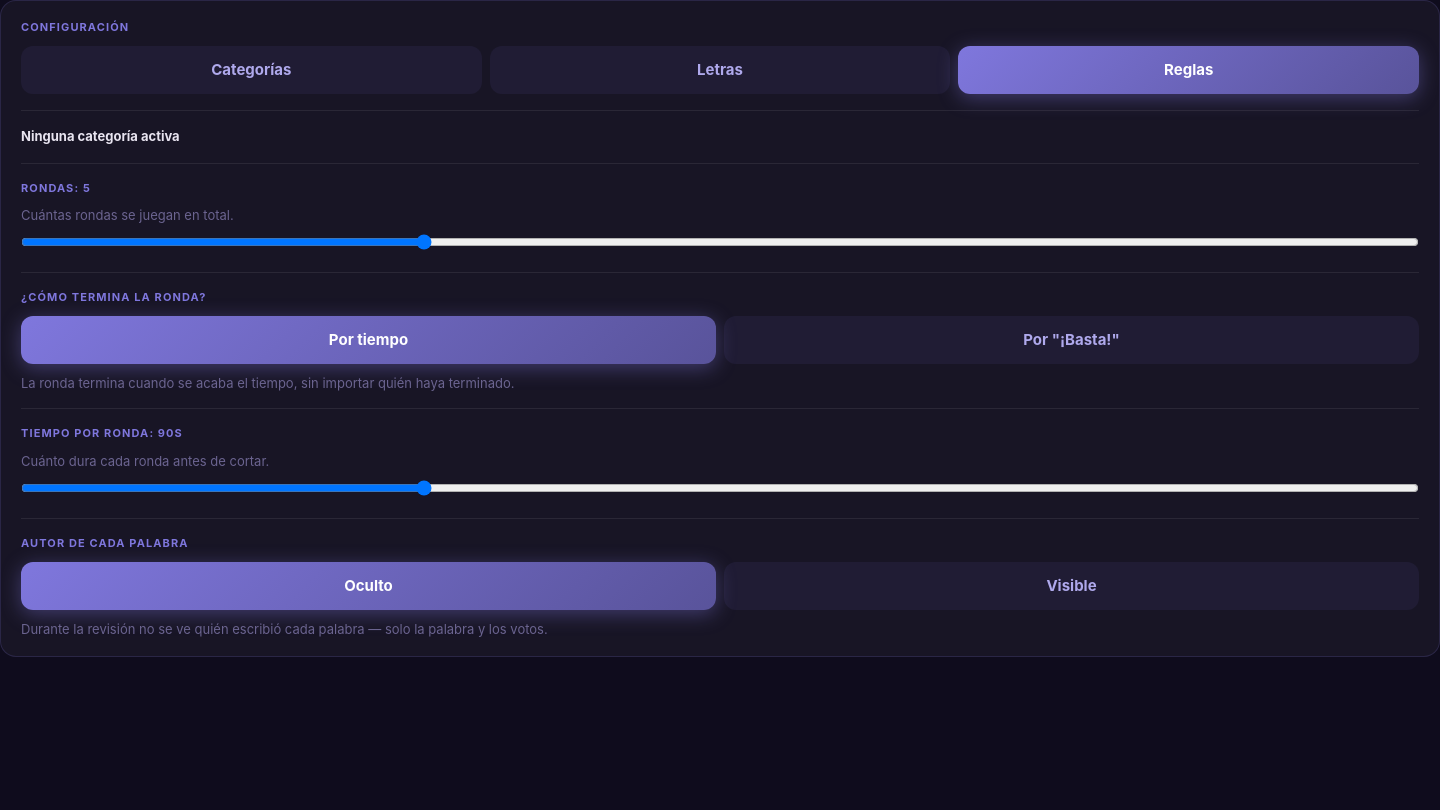
Tutifrutti ConfigPanel › switching to the categories tab shows the full list, with add-category up top
This screenshot has width=1440, height=810.
Click the button "Categorías". click: click(251, 70)
box: x1=21 y1=46 x2=482 y2=94
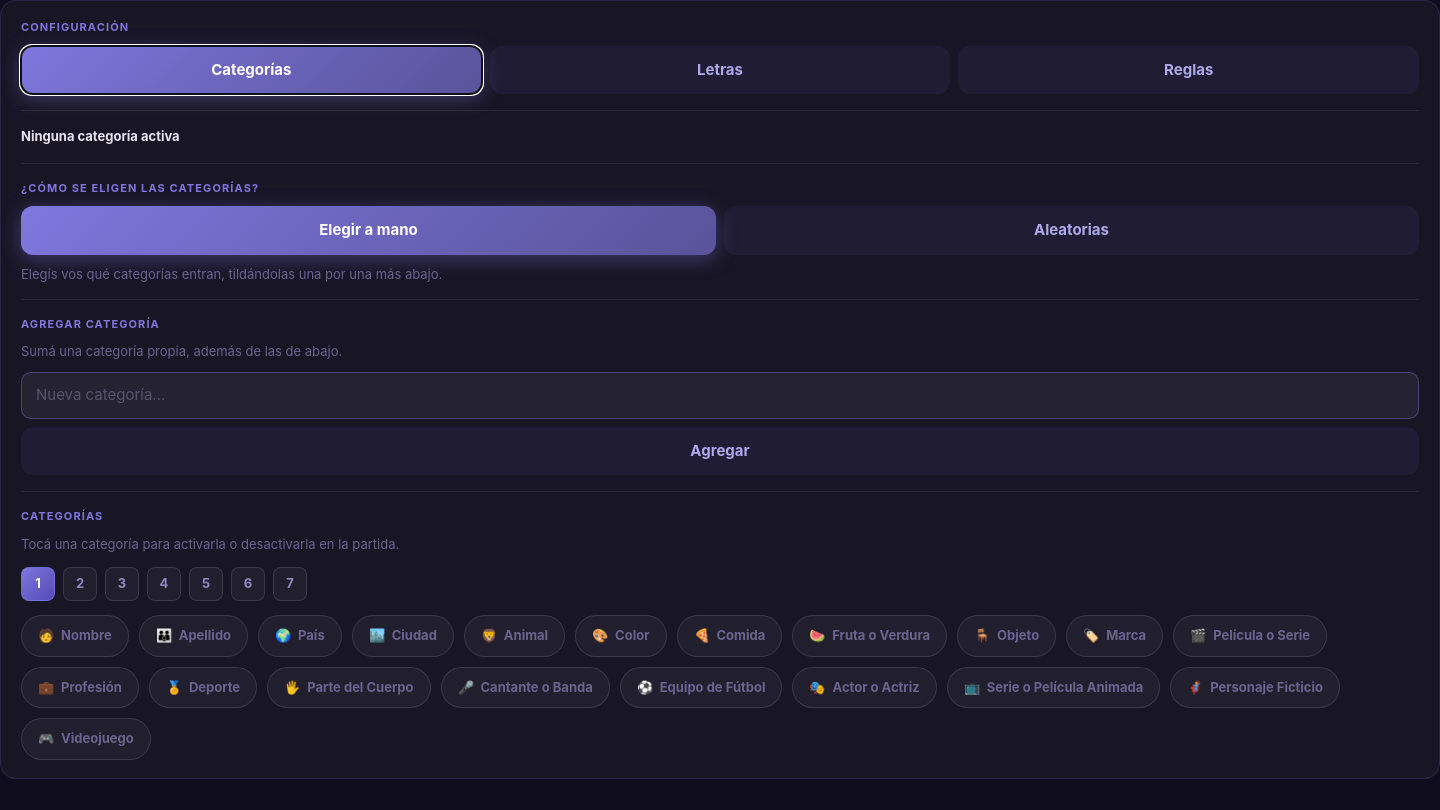
Expected: the text "Nombre" is shown, x1=61 y1=626 x2=112 y2=646
Expected: the field with placeholder "Nueva categoría..." is shown, x1=21 y1=372 x2=1419 y2=419
